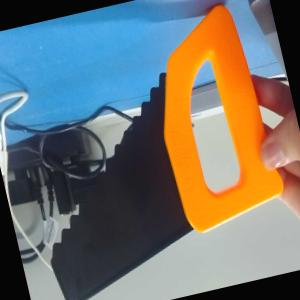serrote: (1, 2, 286, 300)
